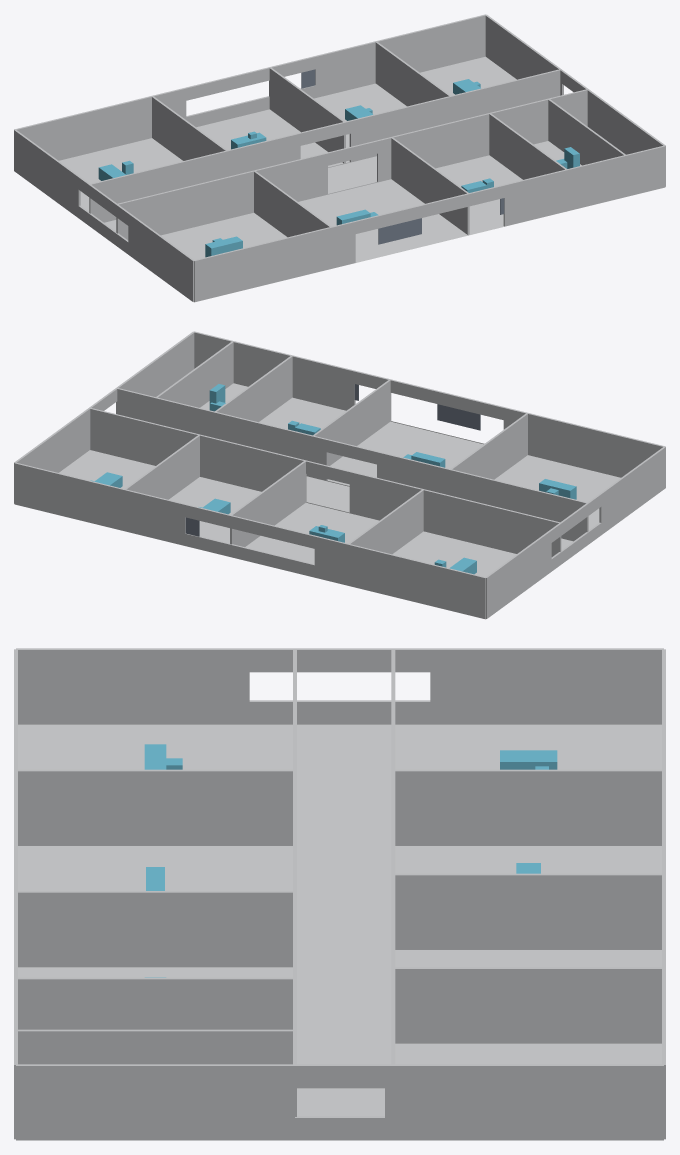
File: planevue_scene_latest.glb
3 renders of one model, top to bottom at view 1: azimuth 30°, elevation 25°; view 2: azimuth 150°, elevation 25°; view 3: azimuth 270°, elevation 25°, orthographic. The views are drawn at different scales.
Parts seen in each view (by area): view 1: wall_W03, wall_W01, wall_W06, wall_W05, wall_W04, floor_R07, wall_W02, wall_W11, wall_W08, floor_R06, floor_R01, floor_R08 (+11 smaller); view 2: wall_W01, wall_W05, wall_W03, wall_W06, wall_W04, wall_W02, floor_R07, floor_R02, floor_R06, wall_W08, floor_R01, wall_W11 (+11 smaller); view 3: wall_W02, wall_W04, floor_R05, wall_W10, wall_W11, wall_W07, wall_W08, wall_W09, wall_W12, floor_R07, floor_R06, floor_R01 (+10 smaller).
Part boxes in pixels (x1=…): wall_W03: x1=194, y1=145, x2=665, y2=302; wall_W01: x1=14, y1=14, x2=485, y2=160; wall_W06: x1=116, y1=89, x2=587, y2=239; wall_W05: x1=89, y1=69, x2=560, y2=222; wall_W04: x1=14, y1=129, x2=194, y2=301; floor_R07: x1=298, y1=179, x2=468, y2=268; wall_W02: x1=485, y1=14, x2=665, y2=186; wall_W11: x1=391, y1=137, x2=469, y2=234; wall_W08: x1=269, y1=67, x2=345, y2=163; floor_R06: x1=161, y1=212, x2=330, y2=302; floor_R01: x1=59, y1=138, x2=182, y2=211; floor_R08: x1=436, y1=155, x2=565, y2=235; wall_W01: x1=14, y1=462, x2=485, y2=619; wall_W05: x1=89, y1=408, x2=561, y2=556; wall_W03: x1=194, y1=331, x2=665, y2=477; wall_W06: x1=116, y1=388, x2=588, y2=541; wall_W04: x1=485, y1=446, x2=665, y2=618; wall_W02: x1=14, y1=331, x2=194, y2=503; floor_R07: x1=328, y1=421, x2=484, y2=485; floor_R02: x1=234, y1=502, x2=379, y2=585; floor_R06: x1=494, y1=455, x2=620, y2=529; wall_W08: x1=230, y1=461, x2=306, y2=546; floor_R01: x1=349, y1=531, x2=516, y2=619; wall_W11: x1=313, y1=380, x2=391, y2=465; wall_W02: x1=16, y1=1064, x2=663, y2=1140; wall_W04: x1=16, y1=648, x2=663, y2=724; floor_R05: x1=295, y1=724, x2=392, y2=1140; wall_W10: x1=16, y1=769, x2=294, y2=845; wall_W11: x1=16, y1=891, x2=294, y2=966; wall_W07: x1=393, y1=769, x2=663, y2=845; wall_W08: x1=393, y1=873, x2=663, y2=949; wall_W09: x1=393, y1=967, x2=663, y2=1043; wall_W12: x1=16, y1=977, x2=294, y2=1029; floor_R07: x1=18, y1=845, x2=292, y2=890; floor_R06: x1=18, y1=724, x2=292, y2=769; floor_R01: x1=395, y1=724, x2=661, y2=769.
Bounding box in the file's own units: 36.15 × 3.05 × 23.85.
